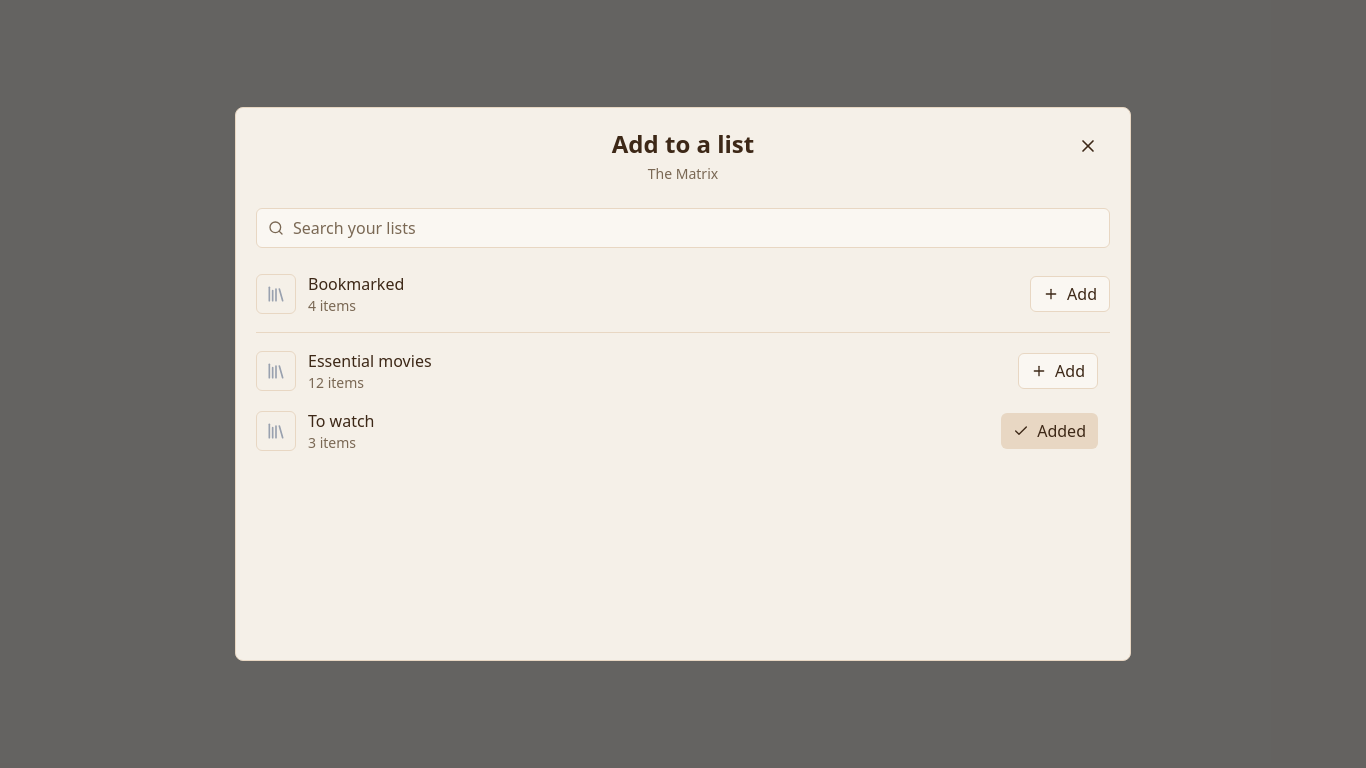
AddToListModal › removes the media from a list with DELETE and flips the button back
Expected: the text "Essential movies" is shown, left=308, top=349, right=432, bottom=373
Click the button with test id "toggle-list2": click(1050, 431) left=1001, top=413, right=1098, bottom=449
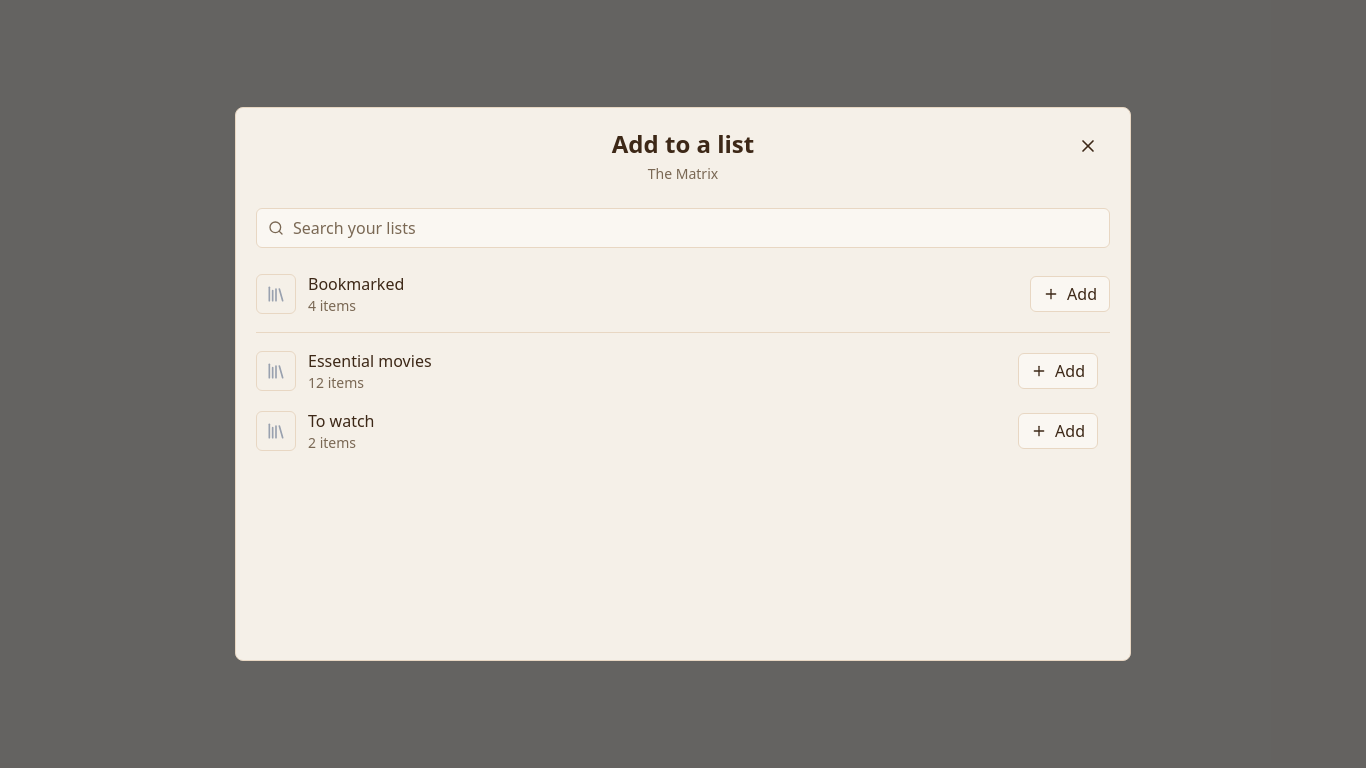
Result: the button with test id "toggle-list2" reads "Add" at left=1018, top=413, right=1098, bottom=449
